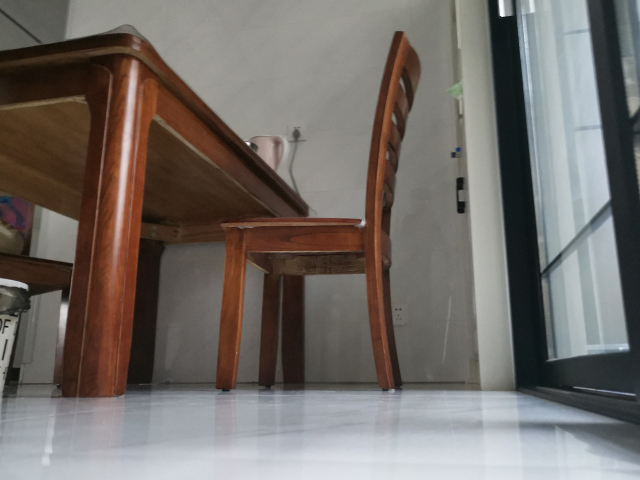stool: (215, 28, 423, 396)
table: (1, 21, 319, 401)
trashcan: (1, 275, 32, 398)
